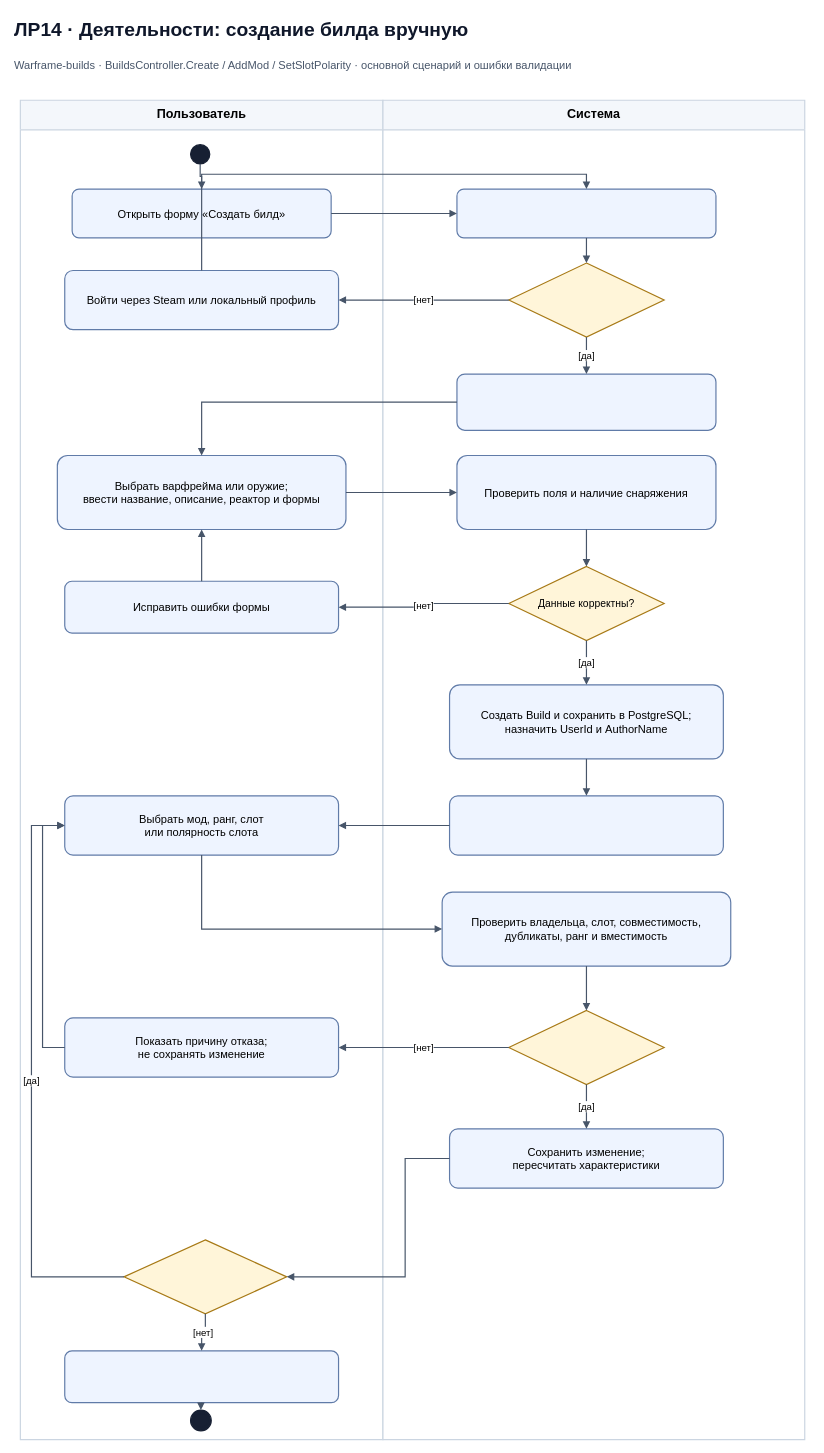
Image size: 824x1453. Some labels were removed from this diagram. The centre of each missing label's shape, as x and y in pixels:
"Вход выполнен?" belongs at point 586,299.
"Изменение допустимо?" belongs at point 586,1047.
"Показать редактор и текущие характеристики" belongs at point 586,825.
"Показать форму и каталог снаряжения" belongs at point 586,402.
"Проверить авторизацию" belongs at point 586,213.
"Продолжить настройку?" belongs at point 205,1276.
"Просмотреть готовый билд или скопировать ссылку" belongs at point 201,1376.
